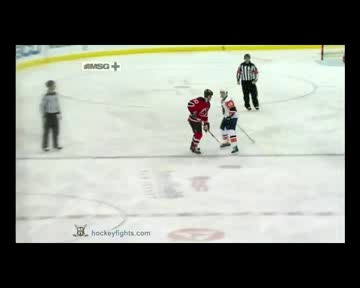normal: (175, 83, 242, 158), (36, 79, 65, 152), (235, 52, 261, 111)
